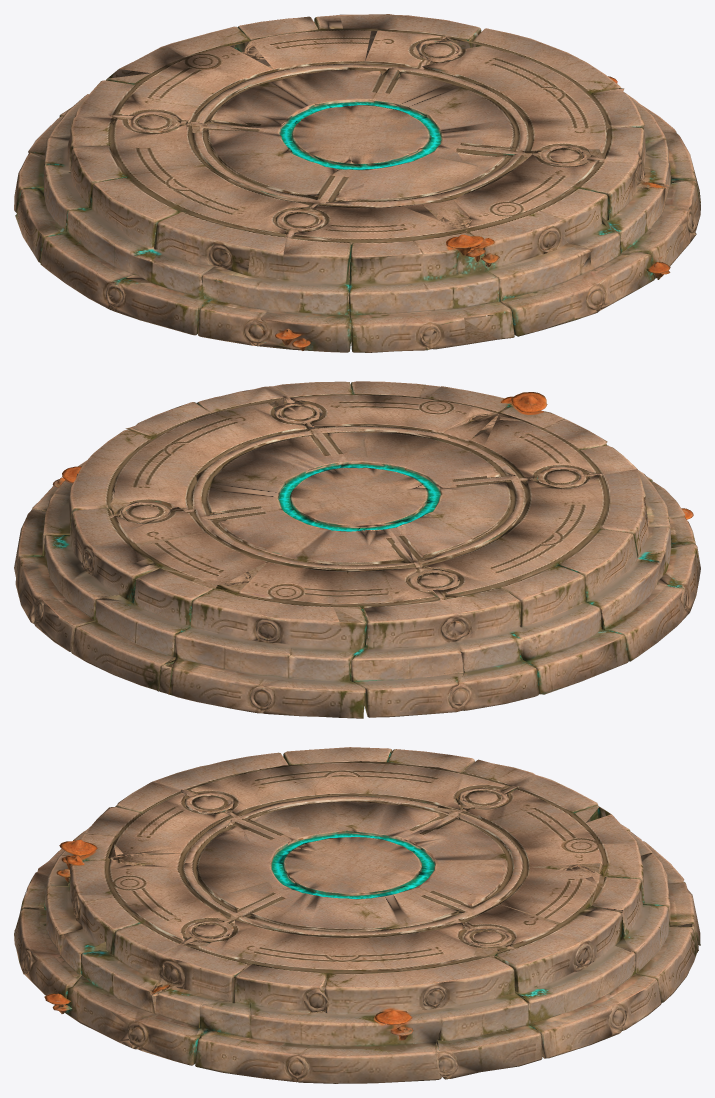
The model's file is citadel_dais.fbx.
3 renders of one model, top to bottom at view 1: azimuth 30°, elevation 25°; view 2: azimuth 150°, elevation 25°; view 3: azimuth 270°, elevation 25°, orthographic.
Visible parts, largest first — view 1: citadel_dais; view 2: citadel_dais; view 3: citadel_dais.
Boxes of the visible parts, bbox=[...] form: citadel_dais: bbox=[14, 14, 700, 352]; citadel_dais: bbox=[14, 381, 700, 718]; citadel_dais: bbox=[14, 747, 700, 1083].
Bounding box in the file's own units: 14 × 1.89 × 14.07.
